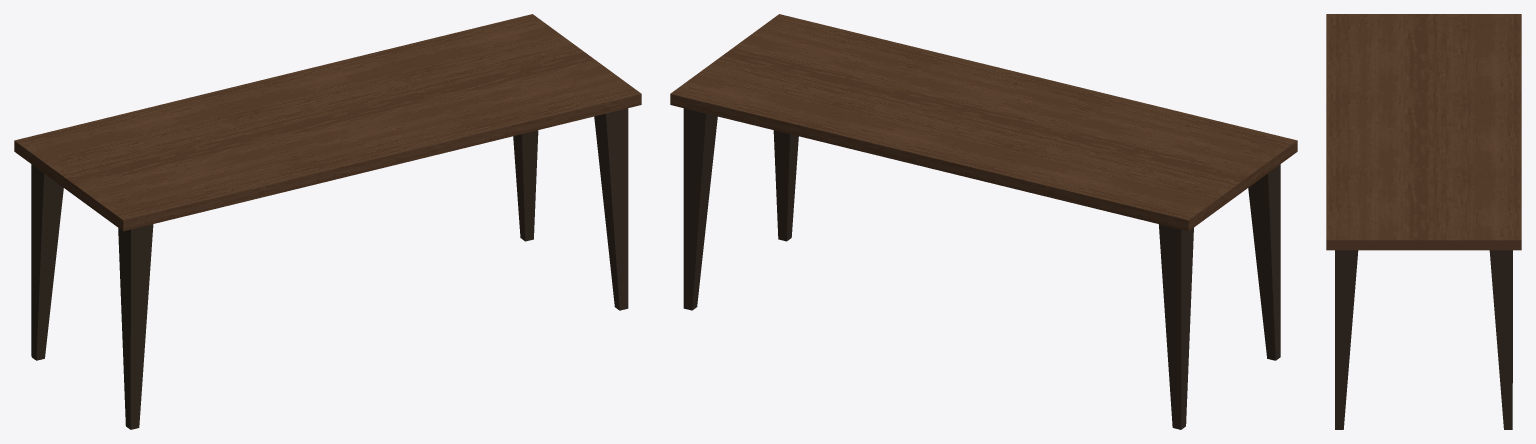
The model's file is desk_alt.glb.
3 renders of one model, left to right at view 1: azimuth 30°, elevation 25°; view 2: azimuth 150°, elevation 25°; view 3: azimuth 270°, elevation 25°, orthographic. The views are drawn at different scales.
Visible parts, largest first — view 1: Cube.020; view 2: Cube.020; view 3: Cube.020.
Boxes of the visible parts, x1,y1,x2,y2 form: Cube.020: (14, 14, 641, 429); Cube.020: (670, 14, 1297, 429); Cube.020: (1326, 14, 1521, 429).
Size of the model in its own units: 2.54 by 1.01 by 0.9254.
Materials: 2 (1 with a texture image).
